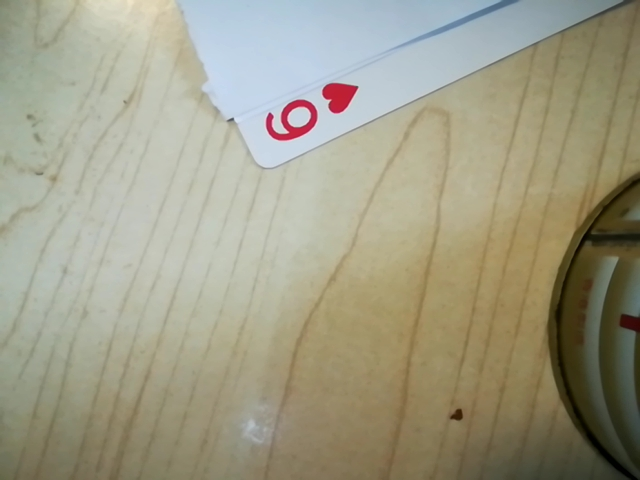hx 6: (254, 79, 359, 151)
